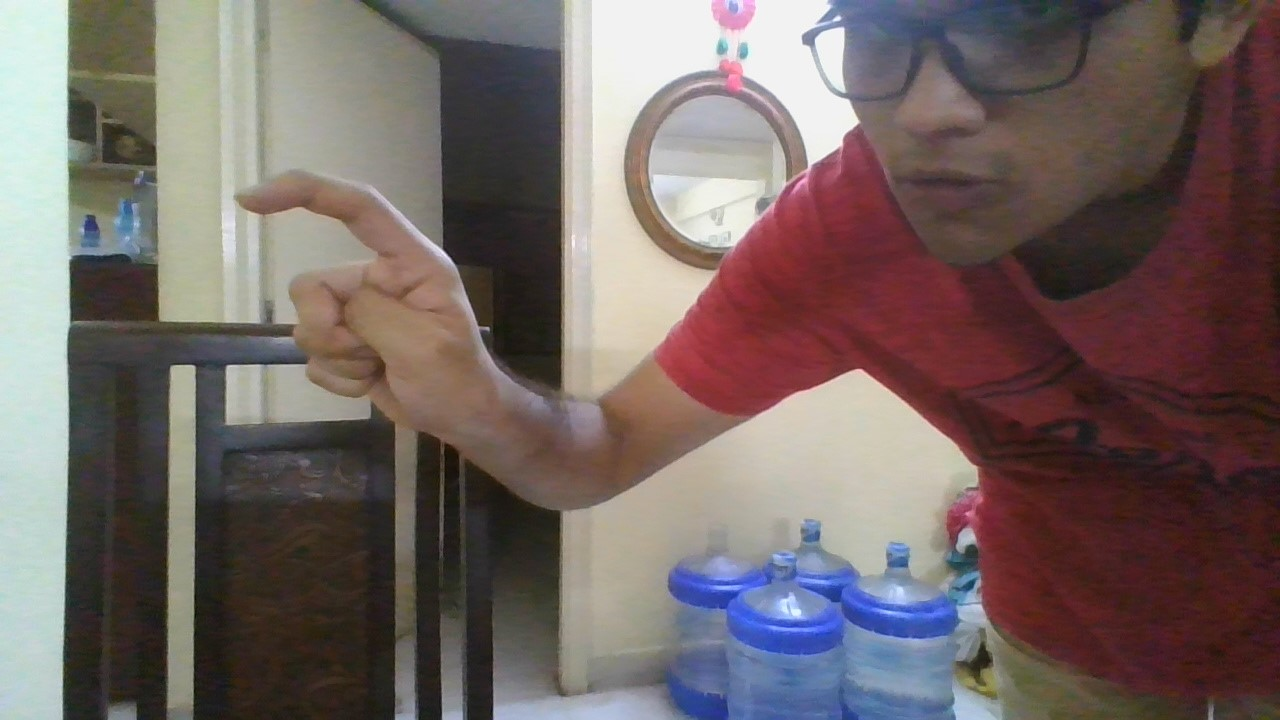x: (228, 154, 482, 431)
